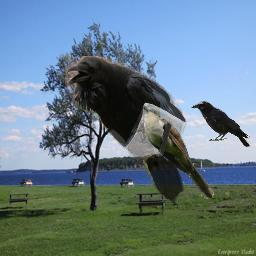Crow: (65, 56, 187, 204), (191, 101, 250, 147)
Cuckoo: (143, 106, 214, 199)
